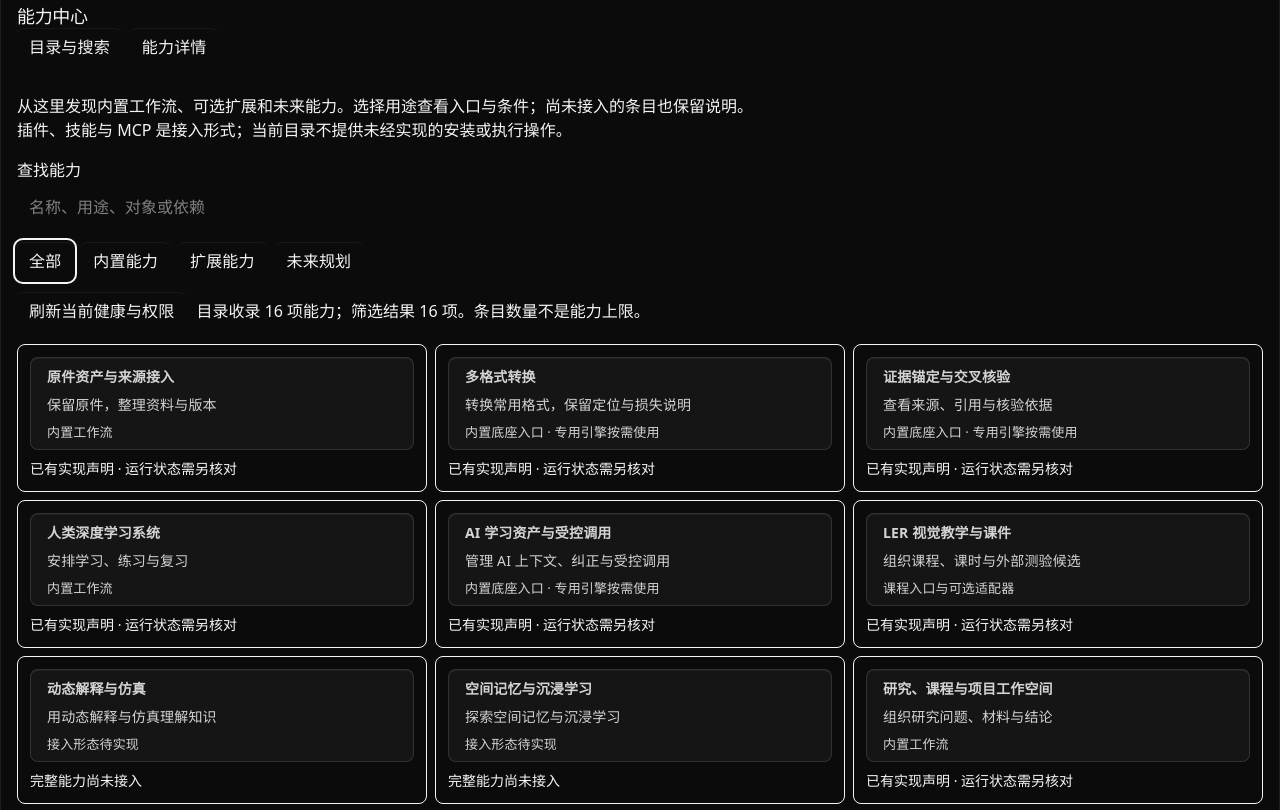
Test: capability center uses existing identities without inventing runtime availability › filters the existing catalog, keeps future details and never installs or probes during browsing
Click the button "内置能力": (126,260) [81,242,170,280]
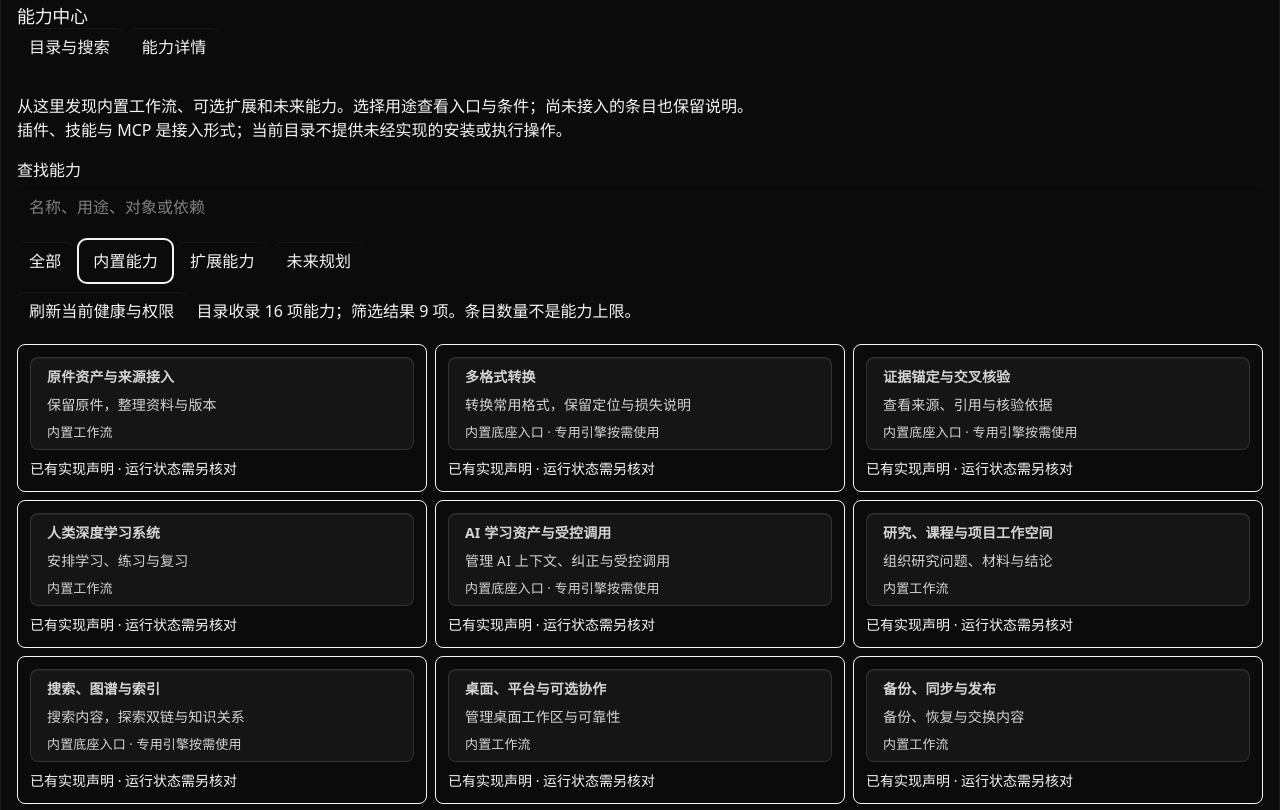
Click the button "扩展能力": (222,260) [178,242,267,280]
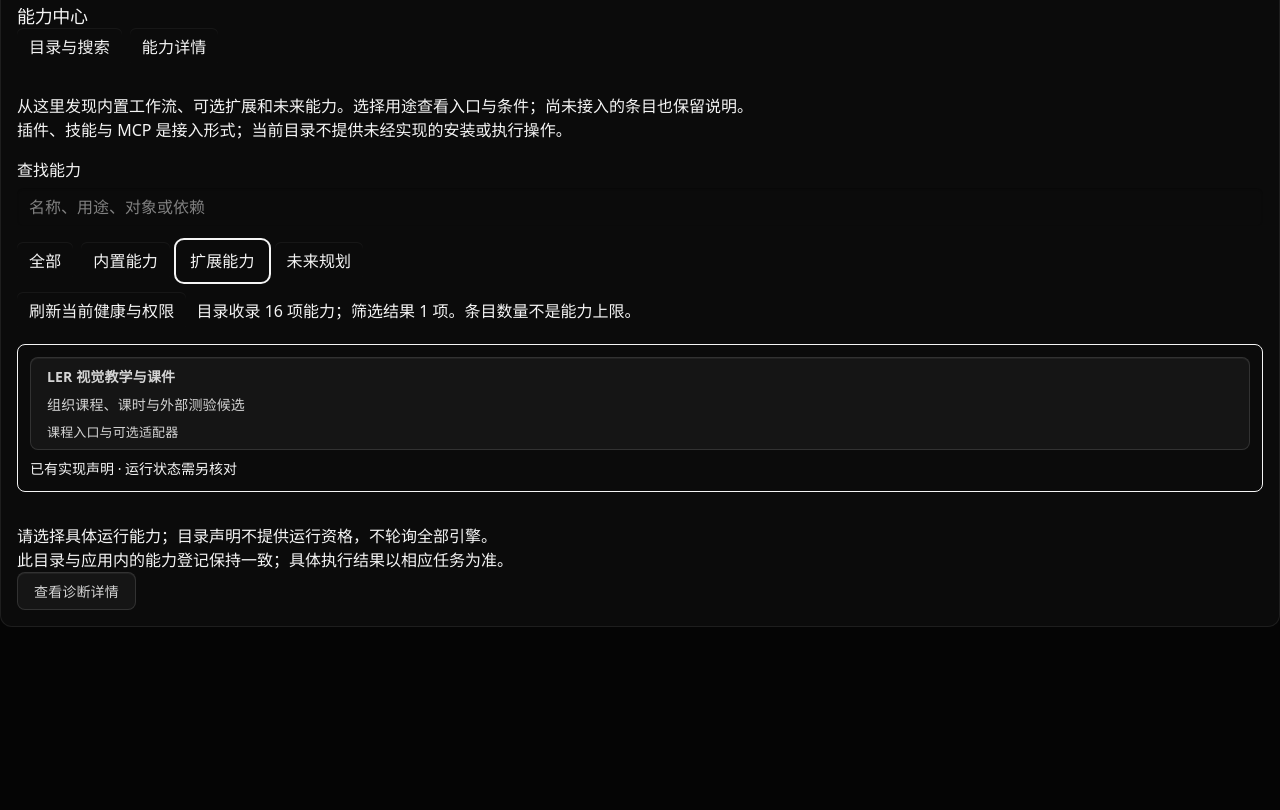
Result: the button "LER 视觉教学与课件 组织课程、课时与外部测验候选 课程入口与可选适配器" is shown at [30,356,1250,450]
Click the button "未来规划": (319,260) [275,242,363,280]
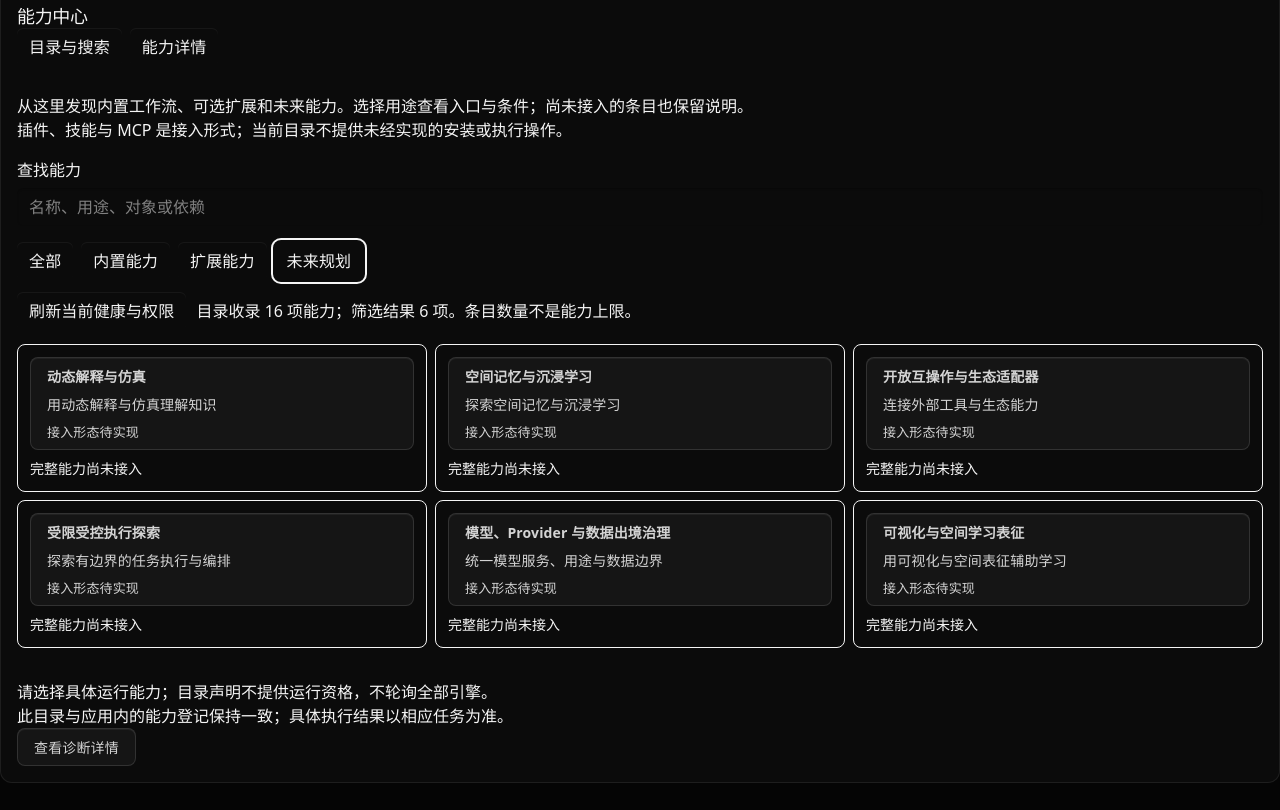
In the field labelled "查找能力": (640,206) [17,188,1263,226], type "CAP-0080"
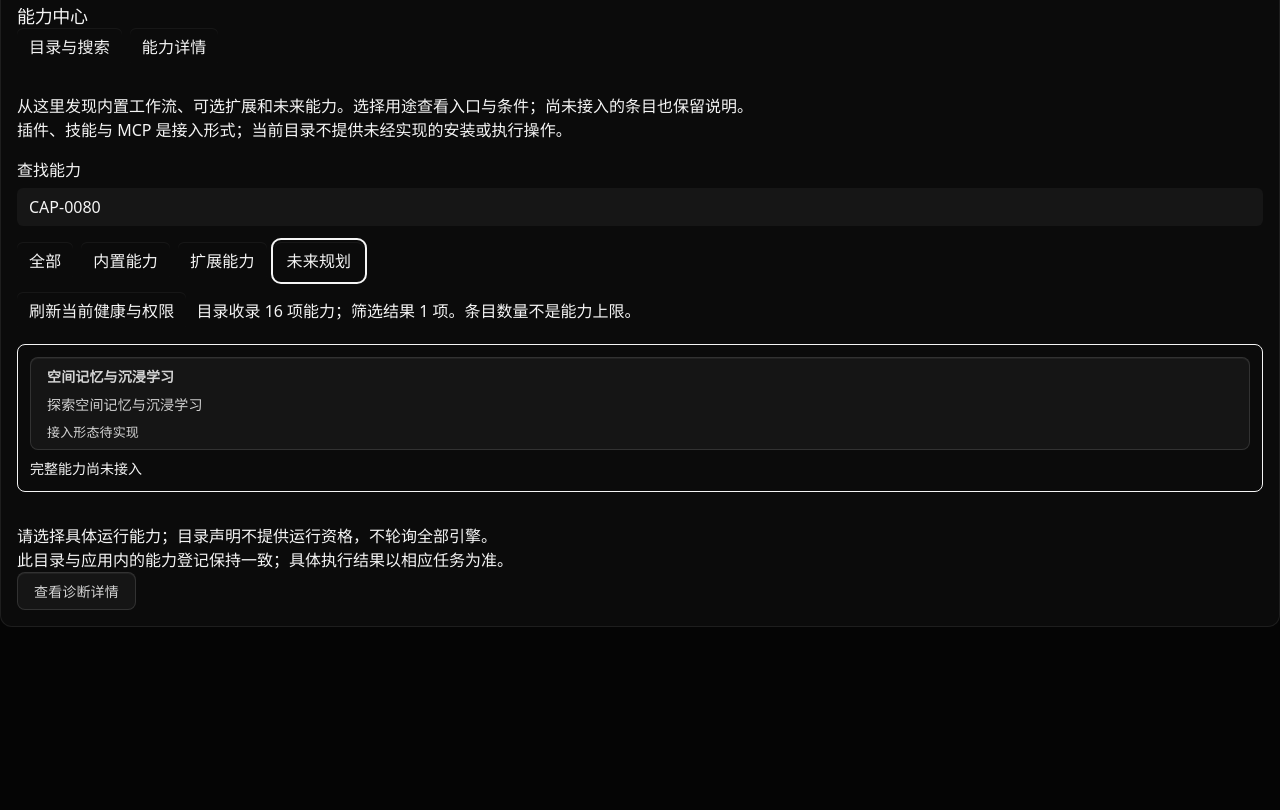
Click the button "空间记忆与沉浸学习 探索空间记忆与沉浸学习 接入形态待实现": (111,376) [30,356,1250,450]
(page scrolled)
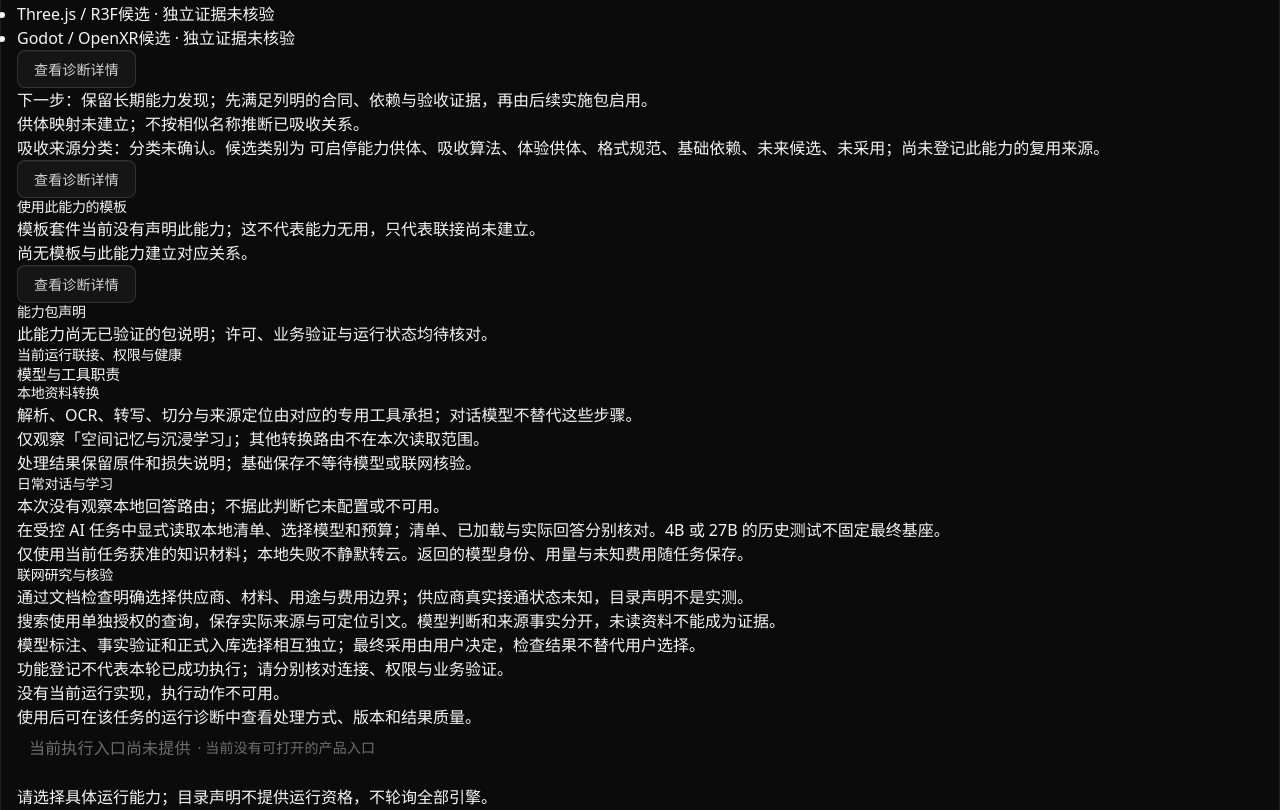
Result: the button "当前执行入口尚未提供 · 当前没有可打开的产品入口" is disabled at [17,729,387,767]
